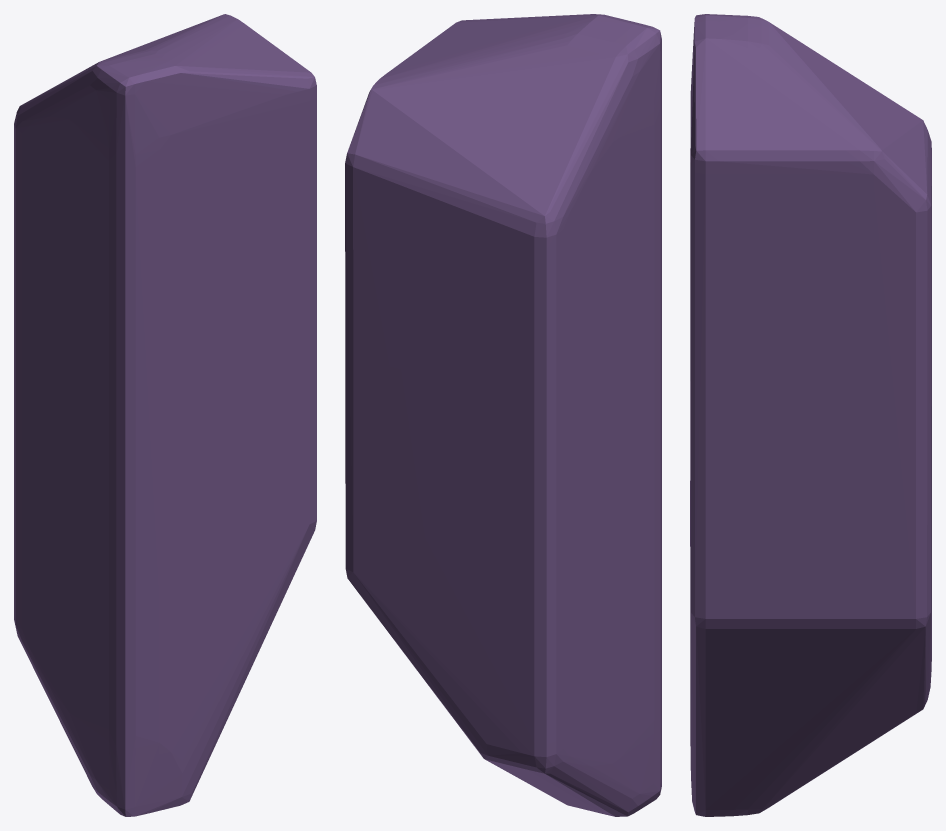
Rendered from right_hip_roll_link_part_1.obj.
3 renders of one model, left to right at view 1: azimuth 30°, elevation 25°; view 2: azimuth 150°, elevation 25°; view 3: azimuth 270°, elevation 25°, orthographic. The views are drawn at different scales.
Size of the model in its own units: 0.0344 by 0.1211 by 0.0342.
